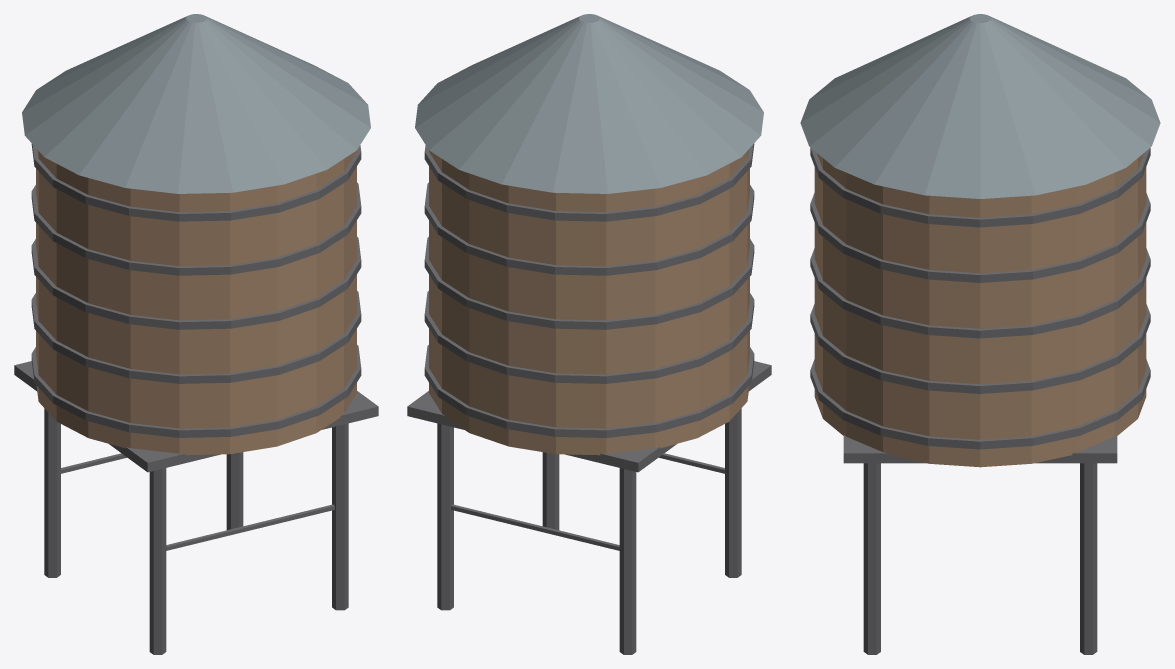
Rendered from water_tower.glb.
The picture shows the model from 3 angles, left to right: view 1: azimuth 30°, elevation 25°; view 2: azimuth 150°, elevation 25°; view 3: azimuth 270°, elevation 25°; orthographic projection. The views are drawn at different scales.
Visible parts, largest first — view 1: water_tower; view 2: water_tower; view 3: water_tower.
Part boxes in pixels (left/top/right/bottom): water_tower: left=14, top=14, right=378, bottom=654; water_tower: left=407, top=14, right=771, bottom=654; water_tower: left=800, top=14, right=1160, bottom=654.
Bounding box in the file's own units: 5 × 9 × 5.
